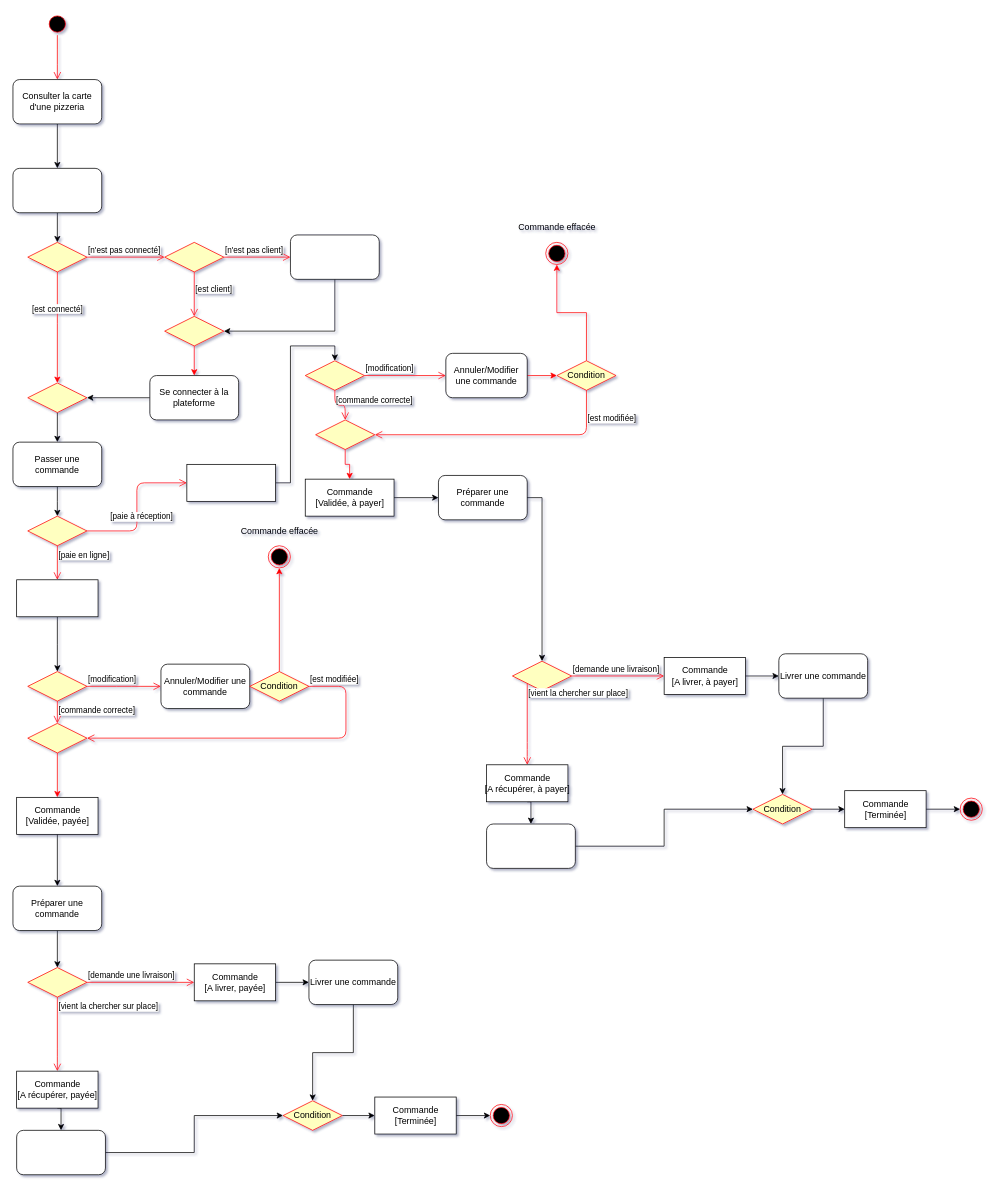
Some shapes in this 1000 by 1192 pixel diagram are drawn without their labels. Each missing label, with the centre of its shape:
Commande [Enregistrée, payée]: [57,598]
Commande [Enregistrée, à payer]: [231,482]
Le Client vient récupérer sa commande et paie.: [530,845]
Le Client vient récupérer sa commande.: [60,1152]
Se constituer un panier: [57,190]
Se créer un compte: [334,256]
